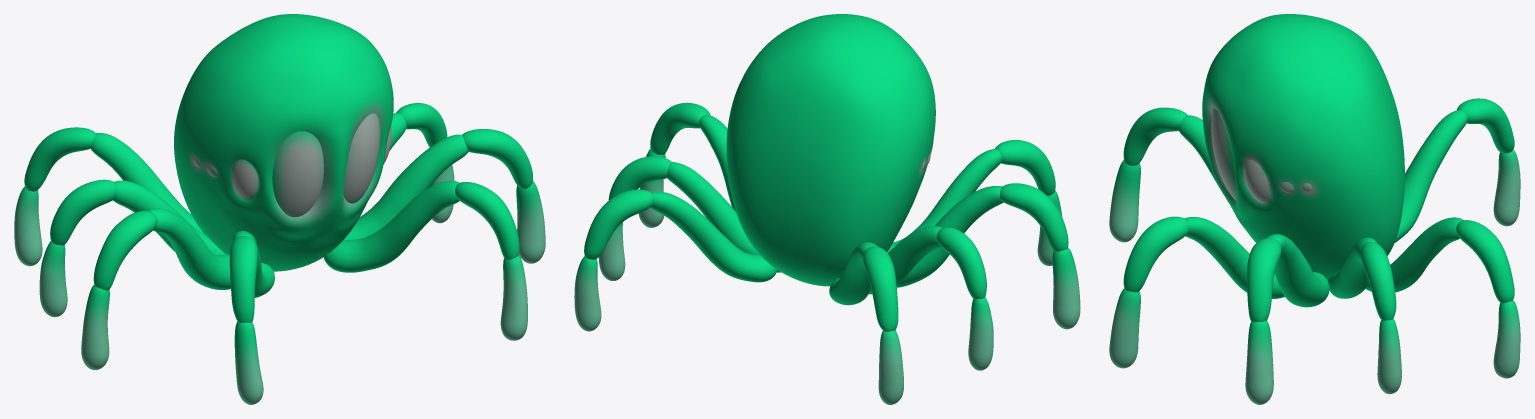
The model's file is spiderr.fbx.
The picture shows the model from 3 angles, left to right: view 1: azimuth 30°, elevation 25°; view 2: azimuth 150°, elevation 25°; view 3: azimuth 270°, elevation 25°; orthographic projection. The views are drawn at different scales.
Visible parts, largest first — view 1: PM3D_Sphere3D1_2; view 2: PM3D_Sphere3D1_2; view 3: PM3D_Sphere3D1_2.
Boxes of the visible parts, x1=… form: PM3D_Sphere3D1_2: x1=14, y1=14, x2=545, y2=404; PM3D_Sphere3D1_2: x1=574, y1=14, x2=1080, y2=404; PM3D_Sphere3D1_2: x1=1109, y1=14, x2=1520, y2=404.
Bounding box in the file's own units: 40.96 × 24.18 × 32.14.
